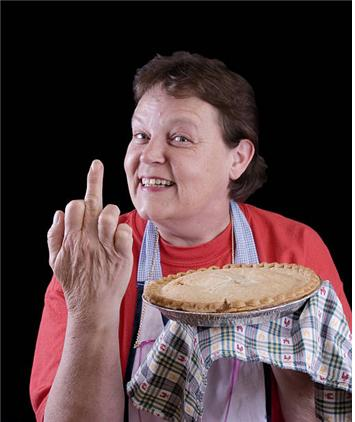insulting_gesture: (45, 156, 137, 322)
